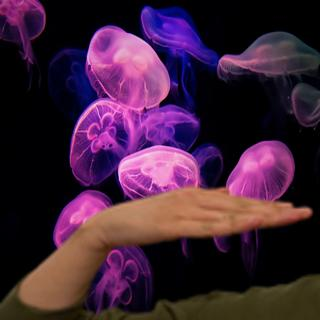WAIT: (91, 179, 316, 252)
